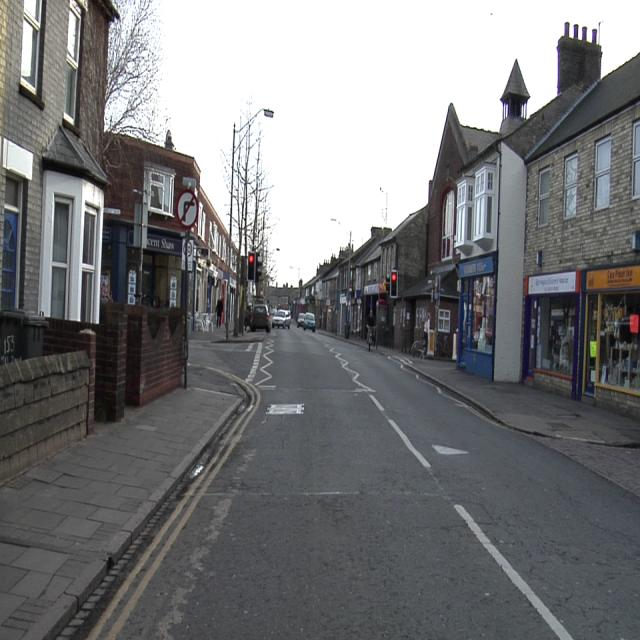Building: (296, 24, 638, 407), (2, 1, 234, 354)
Car: (248, 305, 270, 331), (272, 309, 289, 327), (301, 313, 315, 330)
Road: (79, 328, 635, 638)
Tree: (105, 1, 168, 142)
